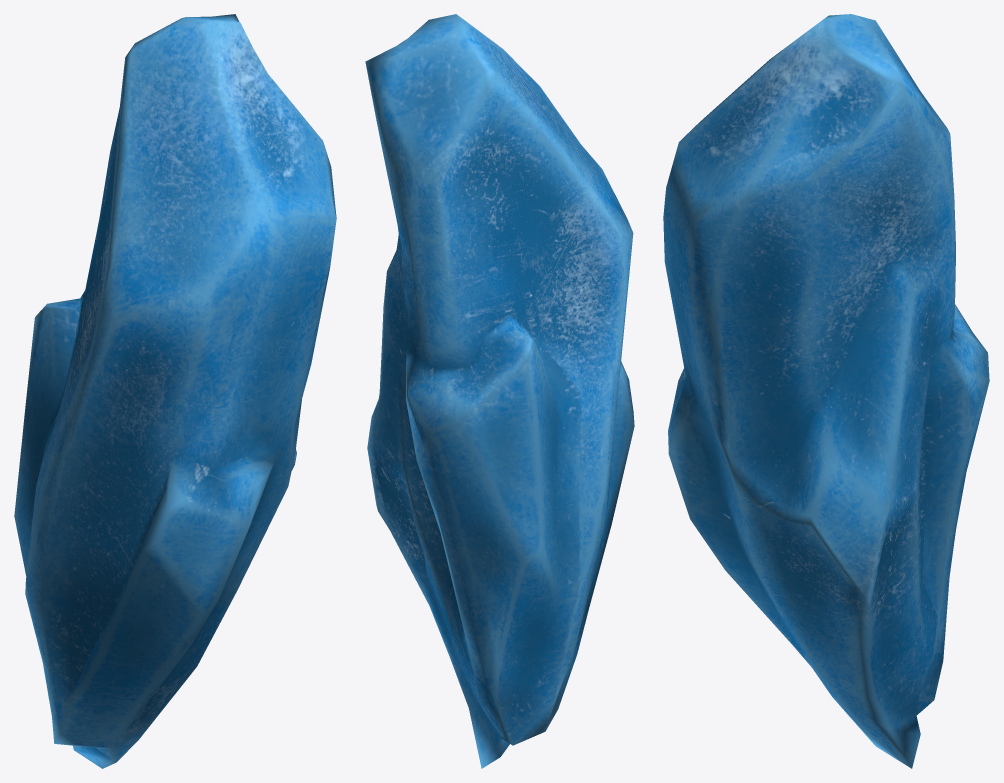
The model's file is ice_crystal_main2.fbx.
The picture shows the model from 3 angles, left to right: view 1: azimuth 30°, elevation 25°; view 2: azimuth 150°, elevation 25°; view 3: azimuth 270°, elevation 25°; orthographic projection. The views are drawn at different scales.
Visible parts, largest first — view 1: Ice_crystal_main2; view 2: Ice_crystal_main2; view 3: Ice_crystal_main2.
Part boxes in pixels (bbox=[...]): Ice_crystal_main2: bbox=[14, 14, 336, 768]; Ice_crystal_main2: bbox=[365, 14, 634, 768]; Ice_crystal_main2: bbox=[663, 14, 989, 768].
Size of the model in its own units: 21.24 by 62.74 by 23.65.
